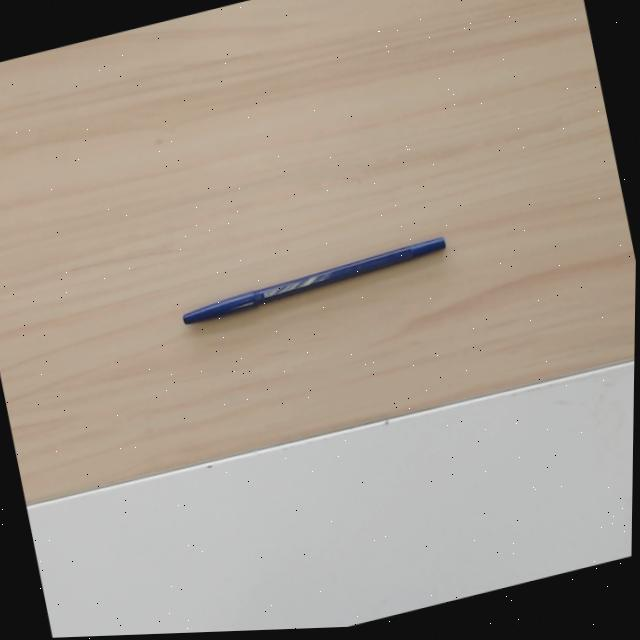Pulpen-Biru: (178, 228, 446, 330)
